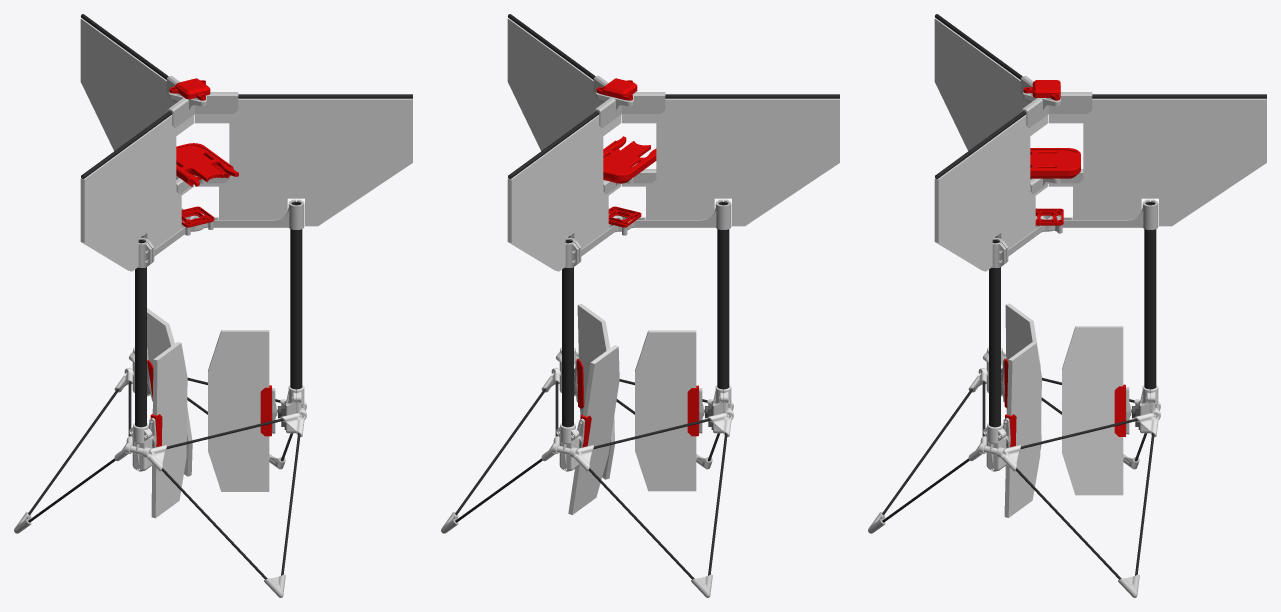
File: Triad 4.2.glb
The picture shows the model from 3 angles, left to right: view 1: azimuth 30°, elevation 25°; view 2: azimuth 150°, elevation 25°; view 3: azimuth 270°, elevation 25°; orthographic projection.
Parts seen in each view (by area): view 1: foam wing.002, foam wing, foam flap, foam wing.001, foam flap.002, 14x12x250mm carbon fiber tube.002, Main frame, 14x12x250mm carbon fiber tube, Wing brace, Battery tray, foam flap.001, 5x3x250mm carbon tube.002 (+5 smaller); view 2: foam wing, foam wing.001, foam flap.002, foam wing.002, foam flap.001, 14x12x250mm carbon fiber tube, Main frame, foam flap, 14x12x250mm carbon fiber tube.001, Wing brace, Battery tray, 5x3x250mm carbon tube.001 (+6 smaller); view 3: foam wing.001, foam wing.002, foam flap.001, foam wing, foam flap, Main frame, 14x12x250mm carbon fiber tube.001, 14x12x250mm carbon fiber tube.002, Wing brace, foam flap.002, Battery tray, 5x3x250mm carbon tube (+6 smaller).
Part boxes in pixels (left/top/right/bottom): foam wing.002: left=194, top=98, right=412, bottom=226; foam wing: left=80, top=114, right=193, bottom=271; foam flap: left=208, top=330, right=269, bottom=491; foam wing.001: left=80, top=18, right=178, bottom=179; foam flap.002: left=151, top=342, right=187, bottom=518; 14x12x250mm carbon fiber tube.002: left=290, top=202, right=302, bottom=389; Main frame: left=138, top=199, right=304, bottom=267; 14x12x250mm carbon fiber tube: left=135, top=240, right=146, bottom=427; Wing brace: left=166, top=75, right=238, bottom=127; Battery tray: left=176, top=145, right=238, bottom=186; foam flap.001: left=147, top=308, right=192, bottom=476; 5x3x250mm carbon tube.002: left=238, top=94, right=412, bottom=98; foam wing: left=621, top=98, right=839, bottom=226; foam wing.001: left=507, top=114, right=620, bottom=271; foam flap.002: left=635, top=330, right=696, bottom=491; foam wing.002: left=507, top=18, right=602, bottom=150; foam flap.001: left=568, top=345, right=619, bottom=515; 14x12x250mm carbon fiber tube: left=717, top=202, right=729, bottom=389; Main frame: left=565, top=199, right=731, bottom=267; foam flap: left=577, top=303, right=614, bottom=479; 14x12x250mm carbon fiber tube.001: left=562, top=240, right=573, bottom=427; Wing brace: left=593, top=75, right=665, bottom=127; Battery tray: left=603, top=136, right=656, bottom=172; 5x3x250mm carbon tube.001: left=665, top=94, right=839, bottom=98; foam wing.001: left=1048, top=98, right=1266, bottom=226; foam wing.002: left=934, top=114, right=1047, bottom=271; foam flap.001: left=1062, top=326, right=1123, bottom=495; foam wing: left=934, top=18, right=1031, bottom=179; foam flap: left=1004, top=342, right=1041, bottom=517; Main frame: left=992, top=199, right=1158, bottom=267; 14x12x250mm carbon fiber tube.001: left=1144, top=202, right=1156, bottom=389; 14x12x250mm carbon fiber tube.002: left=989, top=240, right=1000, bottom=427; Wing brace: left=1020, top=75, right=1092, bottom=127; foam flap.002: left=1005, top=303, right=1041, bottom=450; Battery tray: left=1030, top=150, right=1077, bottom=168; 5x3x250mm carbon tube: left=1092, top=94, right=1266, bottom=98.
Bounding box in the file's own units: 0.4392 × 0.5668 × 0.4566.
